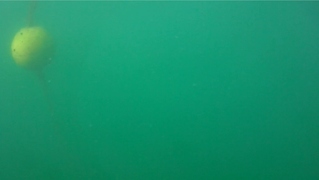buoy: (10, 25, 56, 71)
